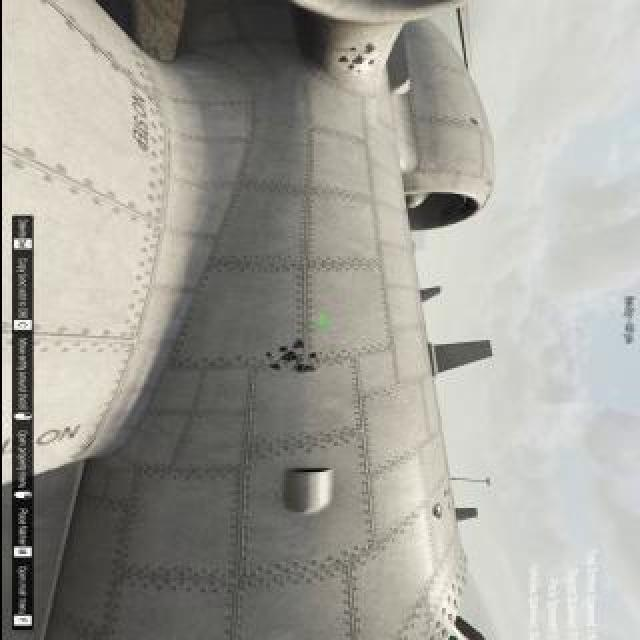crack: (431, 501, 443, 521), (290, 365, 314, 373), (280, 352, 296, 364), (289, 339, 305, 351), (268, 363, 280, 373), (351, 55, 361, 67), (468, 119, 478, 129), (364, 44, 376, 52), (337, 56, 349, 64), (346, 47, 356, 55), (367, 61, 375, 69)
